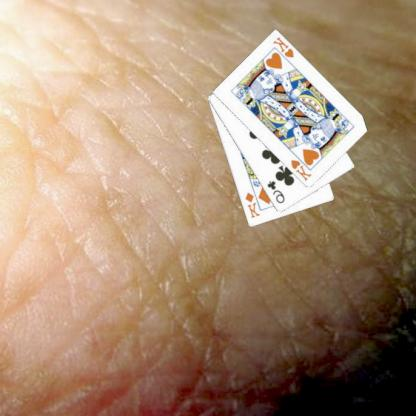9C: (266, 178, 288, 205)
KD: (244, 190, 262, 219)
KH: (290, 157, 315, 183), (272, 34, 297, 60)
